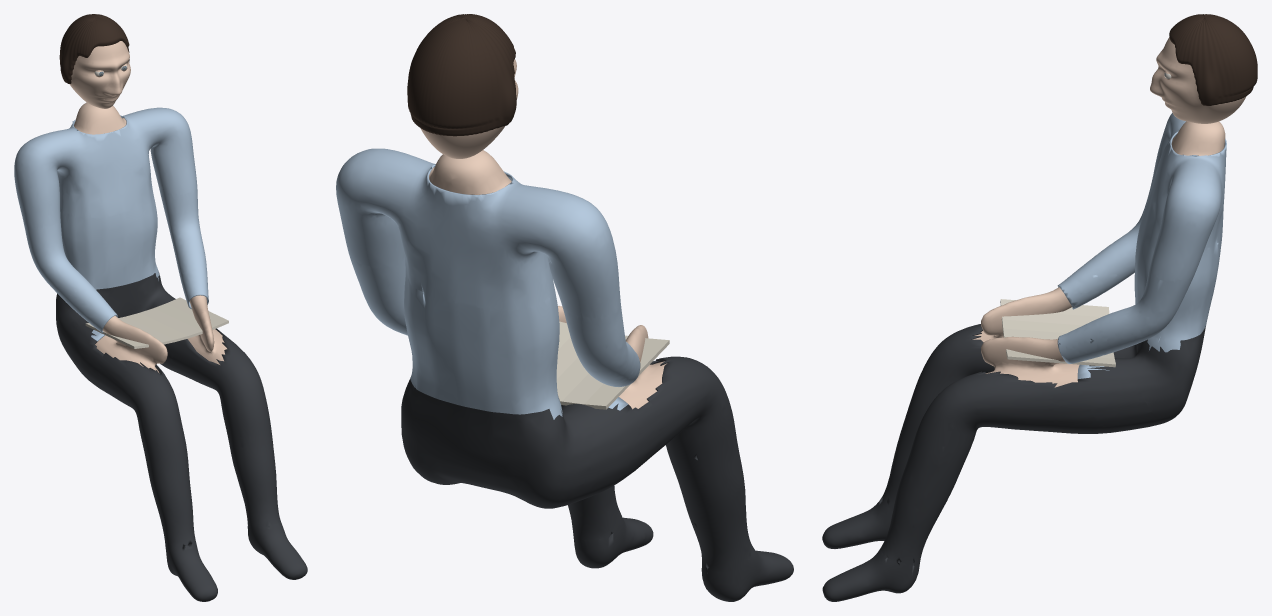
Rendered from Figure_Dad_Seated.fbx.
The picture shows the model from 3 angles, left to right: view 1: azimuth 30°, elevation 25°; view 2: azimuth 150°, elevation 25°; view 3: azimuth 270°, elevation 25°; orthographic projection. The views are drawn at different scales.
Visible parts, largest first — view 1: Clothes, Body, Head, Prop, Hair; view 2: Clothes, Hair, Body, Prop, Head; view 3: Clothes, Body, Hair, Head, Prop.
Part boxes in pixels (x1,y1,x2,y2): Clothes: (14, 107, 307, 601); Body: (74, 102, 226, 373); Head: (69, 41, 130, 108); Prop: (85, 297, 228, 348); Hair: (59, 14, 129, 83); Clothes: (336, 148, 793, 601); Hair: (407, 14, 516, 136); Body: (429, 150, 666, 409); Prop: (556, 321, 669, 409); Head: (420, 59, 518, 158); Clothes: (822, 113, 1226, 601); Body: (972, 121, 1225, 387); Hair: (1169, 14, 1257, 105); Head: (1150, 37, 1246, 123); Prop: (1000, 299, 1115, 367).
Size of the model in its own units: 0.5285 by 1.35 by 0.9598.
